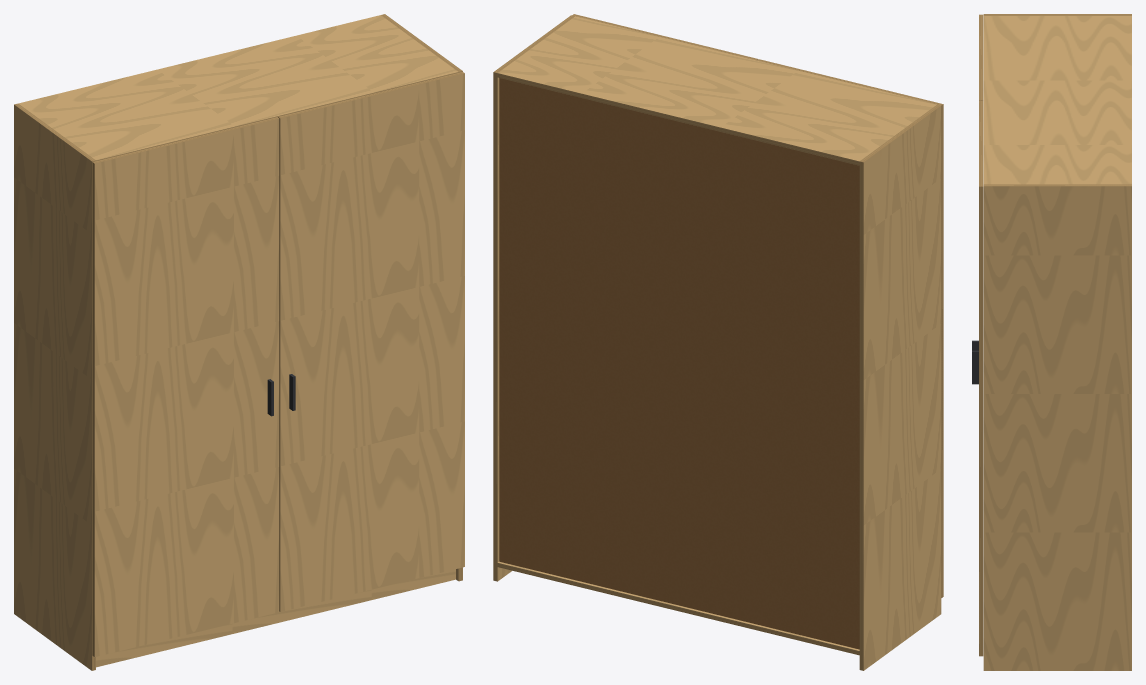
The model's file is HIN-WRD-double.glb.
3 renders of one model, left to right at view 1: azimuth 30°, elevation 25°; view 2: azimuth 150°, elevation 25°; view 3: azimuth 270°, elevation 25°, orthographic. The views are drawn at different scales.
Visible parts, largest first — view 1: door-l:sheet:eyJtIjoicGx5Iiwic2lkZSI6ImZhY2UiLCJzZWVkIjoyLCJ, door-r:sheet:eyJtIjoicGx5Iiwic2lkZSI6ImZhY2UiLCJzZWVkIjoyLCJ, side-l:sheet:eyJtIjoicGx5Iiwic2lkZSI6ImZhY2UiLCJzZWVkIjoxLCJ, top:sheet:eyJtIjoicGx5Iiwic2lkZSI6ImZhY2UiLCJzZWVkIjo2LCJ2ZW, plinth:sheet:eyJtIjoicGx5Iiwic2lkZSI6ImZhY2UiLCJzZWVkIjozLCJ, door-l:sheet:eyJtIjoicGx5Iiwic2lkZSI6ImVkZ2UtbG9uZyIsInNlZWQ, door-r:sheet:eyJtIjoicGx5Iiwic2lkZSI6ImVkZ2UtbG9uZyIsInNlZWQ; view 2: back:sheet:eyJtIjoibWRmIiwic2lkZSI6ImZhY2UiLCJzZWVkIjoxLCJ0a, side-l:sheet:eyJtIjoicGx5Iiwic2lkZSI6ImZhY2UiLCJzZWVkIjoxLCJ, top:sheet:eyJtIjoicGx5Iiwic2lkZSI6ImZhY2UiLCJzZWVkIjo2LCJ2ZW, side-l:sheet:eyJtIjoicGx5Iiwic2lkZSI6ImVkZ2UtbG9uZyIsInNlZWQ, side-r:sheet:eyJtIjoicGx5Iiwic2lkZSI6ImVkZ2UtbG9uZyIsInNlZWQ, top:sheet:eyJtIjoicGx5Iiwic2lkZSI6ImVkZ2UtbG9uZyIsInNlZWQiOj, bottom:sheet:eyJtIjoicGx5Iiwic2lkZSI6ImVkZ2UtbG9uZyIsInNlZWQ, side-r:sheet:eyJtIjoicGx5Iiwic2lkZSI6ImZhY2UiLCJzZWVkIjozLCJ, door-l:sheet:eyJtIjoicGx5Iiwic2lkZSI6ImVkZ2UtbG9uZyIsInNlZWQ, bottom:sheet:eyJtIjoicGx5Iiwic2lkZSI6ImZhY2UiLCJzZWVkIjowLCJ; view 3: side-r:sheet:eyJtIjoicGx5Iiwic2lkZSI6ImZhY2UiLCJzZWVkIjozLCJ, top:sheet:eyJtIjoicGx5Iiwic2lkZSI6ImZhY2UiLCJzZWVkIjo2LCJ2ZW, door-r:sheet:eyJtIjoicGx5Iiwic2lkZSI6ImVkZ2UtbG9uZyIsInNlZWQ, side-r:sheet:eyJtIjoicGx5Iiwic2lkZSI6ImVkZ2UtZW5kIiwic2VlZCI, door-r:sheet:eyJtIjoicGx5Iiwic2lkZSI6ImVkZ2UtZW5kIiwic2VlZCI, door-l:sheet:eyJtIjoicGx5Iiwic2lkZSI6ImVkZ2UtZW5kIiwic2VlZCI, pull, side-l:sheet:eyJtIjoicGx5Iiwic2lkZSI6ImVkZ2UtZW5kIiwic2VlZCI.
Boxes of the visible parts, x1,y1,x2,y2 form: door-l:sheet:eyJtIjoicGx5Iiwic2lkZSI6ImZhY2UiLCJzZWVkIjoyLCJ: (94, 119, 279, 656); door-r:sheet:eyJtIjoicGx5Iiwic2lkZSI6ImZhY2UiLCJzZWVkIjoyLCJ: (280, 73, 464, 611); side-l:sheet:eyJtIjoicGx5Iiwic2lkZSI6ImZhY2UiLCJzZWVkIjoxLCJ: (14, 105, 91, 670); top:sheet:eyJtIjoicGx5Iiwic2lkZSI6ImZhY2UiLCJzZWVkIjo2LCJ2ZW: (18, 15, 457, 160); plinth:sheet:eyJtIjoicGx5Iiwic2lkZSI6ImZhY2UiLCJzZWVkIjozLCJ: (96, 569, 455, 667); door-l:sheet:eyJtIjoicGx5Iiwic2lkZSI6ImVkZ2UtbG9uZyIsInNlZWQ: (92, 162, 94, 656); door-r:sheet:eyJtIjoicGx5Iiwic2lkZSI6ImVkZ2UtbG9uZyIsInNlZWQ: (278, 117, 280, 611); back:sheet:eyJtIjoibWRmIiwic2lkZSI6ImZhY2UiLCJzZWVkIjoxLCJ0a: (499, 78, 859, 649); side-l:sheet:eyJtIjoicGx5Iiwic2lkZSI6ImZhY2UiLCJzZWVkIjoxLCJ: (863, 106, 941, 670); top:sheet:eyJtIjoicGx5Iiwic2lkZSI6ImZhY2UiLCJzZWVkIjo2LCJ2ZW: (498, 16, 936, 161); side-l:sheet:eyJtIjoicGx5Iiwic2lkZSI6ImVkZ2UtbG9uZyIsInNlZWQ: (859, 161, 863, 670); side-r:sheet:eyJtIjoicGx5Iiwic2lkZSI6ImVkZ2UtbG9uZyIsInNlZWQ: (493, 72, 497, 581); top:sheet:eyJtIjoicGx5Iiwic2lkZSI6ImVkZ2UtbG9uZyIsInNlZWQiOj: (497, 73, 859, 165); bottom:sheet:eyJtIjoicGx5Iiwic2lkZSI6ImVkZ2UtbG9uZyIsInNlZWQ: (497, 563, 859, 655); side-r:sheet:eyJtIjoicGx5Iiwic2lkZSI6ImZhY2UiLCJzZWVkIjozLCJ: (497, 77, 511, 581); door-l:sheet:eyJtIjoicGx5Iiwic2lkZSI6ImVkZ2UtbG9uZyIsInNlZWQ: (941, 104, 943, 597); bottom:sheet:eyJtIjoicGx5Iiwic2lkZSI6ImZhY2UiLCJzZWVkIjowLCJ: (498, 561, 859, 650); side-r:sheet:eyJtIjoicGx5Iiwic2lkZSI6ImZhY2UiLCJzZWVkIjozLCJ: (983, 186, 1131, 670); top:sheet:eyJtIjoicGx5Iiwic2lkZSI6ImZhY2UiLCJzZWVkIjo2LCJ2ZW: (983, 16, 1131, 184); door-r:sheet:eyJtIjoicGx5Iiwic2lkZSI6ImVkZ2UtbG9uZyIsInNlZWQ: (979, 186, 983, 656); side-r:sheet:eyJtIjoicGx5Iiwic2lkZSI6ImVkZ2UtZW5kIiwic2VlZCI: (983, 184, 1131, 186); door-r:sheet:eyJtIjoicGx5Iiwic2lkZSI6ImVkZ2UtZW5kIiwic2VlZCI: (979, 100, 983, 186); door-l:sheet:eyJtIjoicGx5Iiwic2lkZSI6ImVkZ2UtZW5kIiwic2VlZCI: (979, 14, 983, 100); pull: (972, 340, 978, 384); side-l:sheet:eyJtIjoicGx5Iiwic2lkZSI6ImVkZ2UtZW5kIiwic2VlZCI: (983, 14, 1131, 15).
Bounding box in the file's own units: 1.6 × 2.1 × 0.6271.
Materials: 34 (33 with a texture image).
